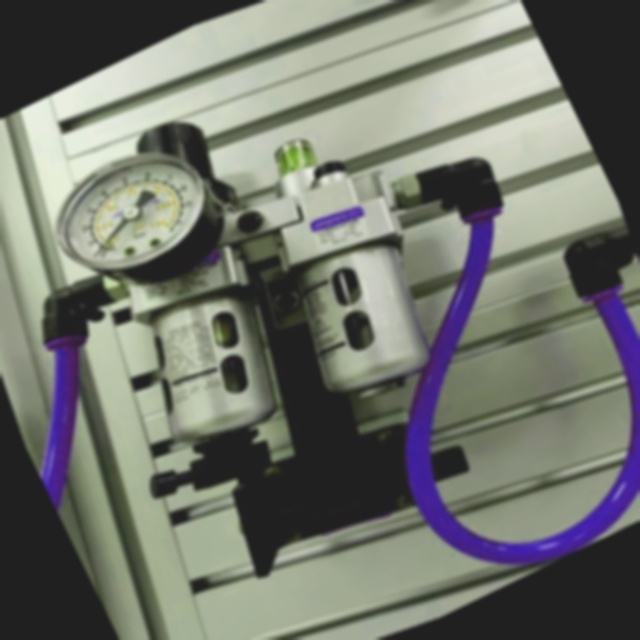FRL unit: (0, 0, 627, 640)
push button: (21, 111, 254, 328)
